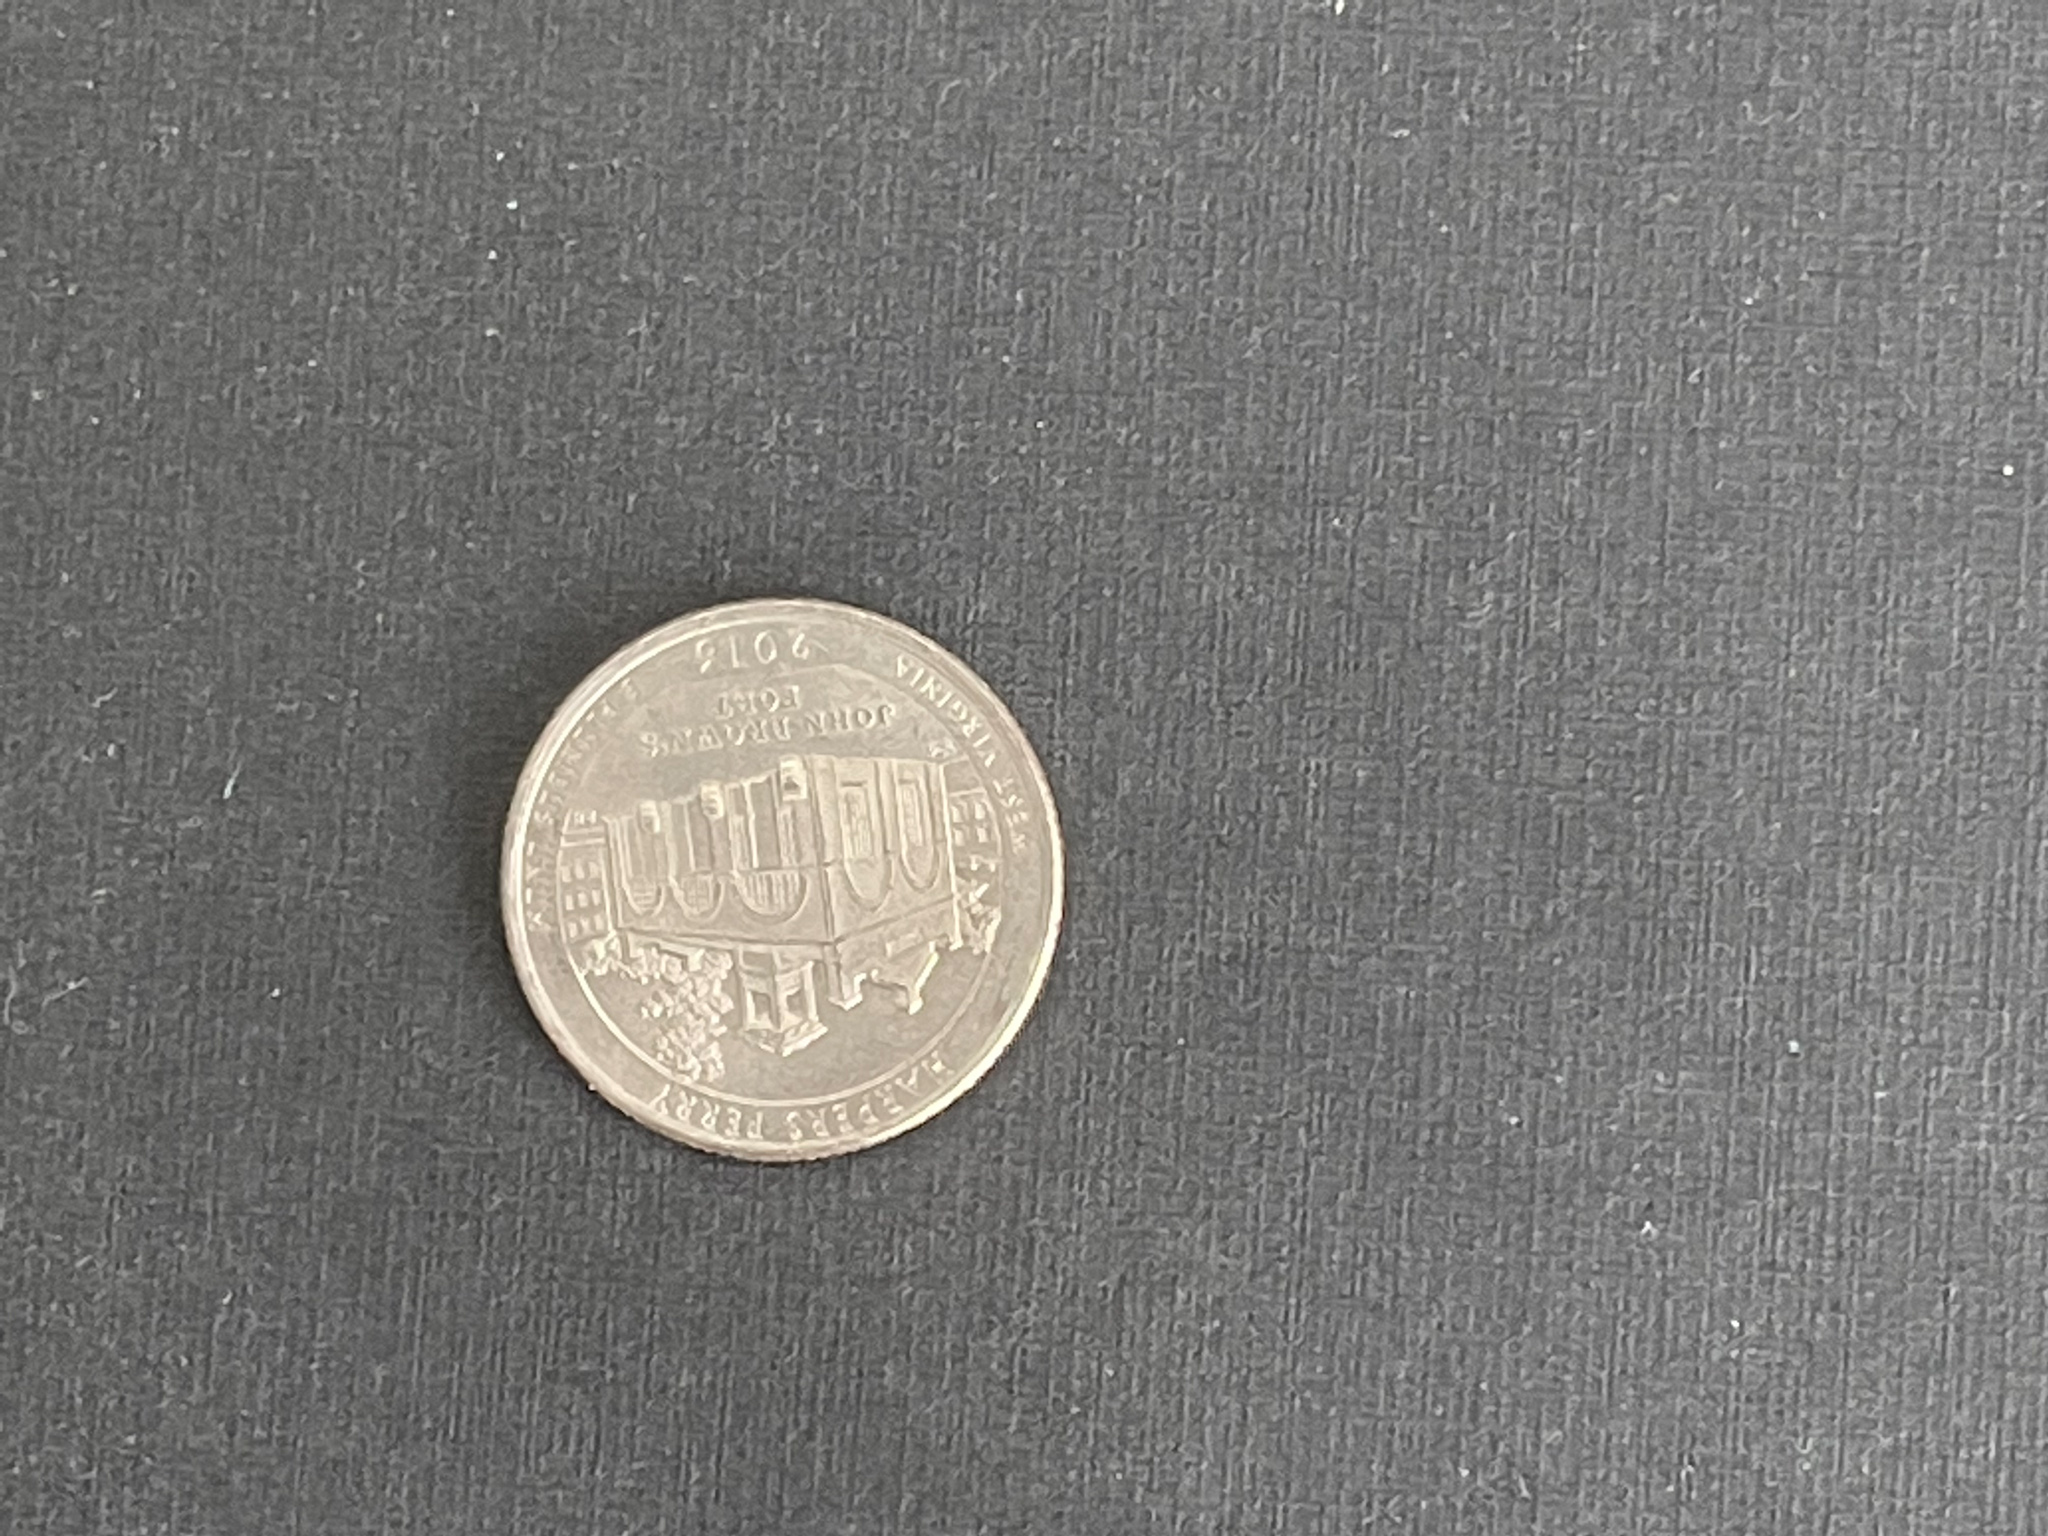quarter: (492, 592, 1068, 1167)
